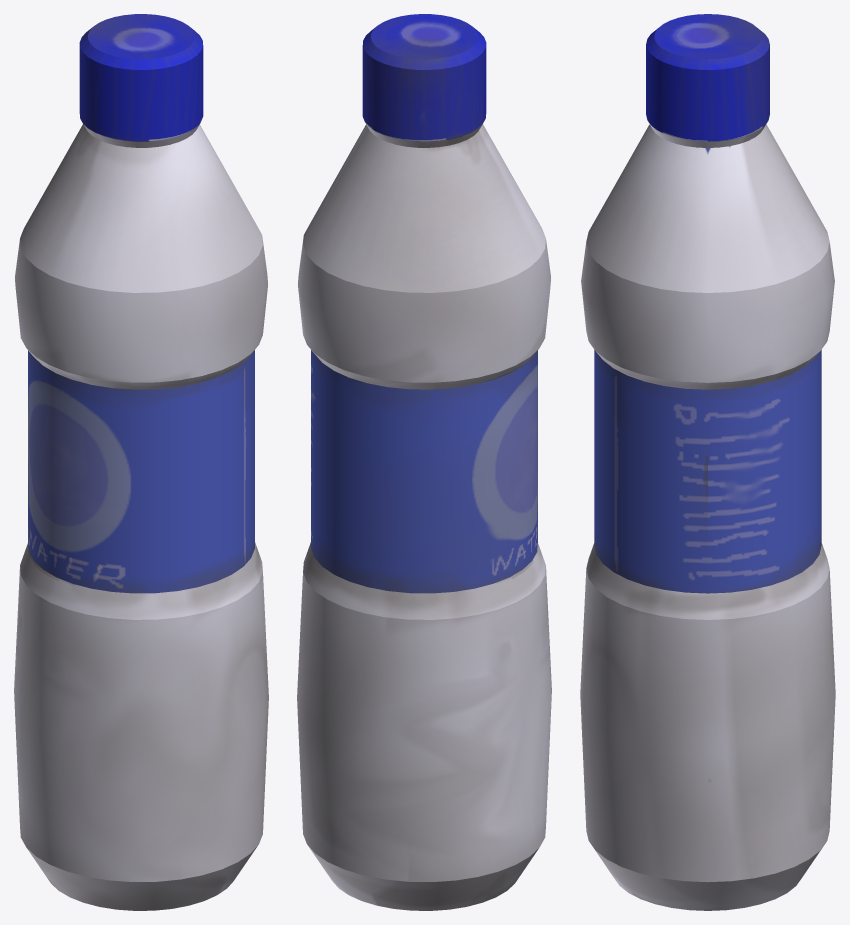
File: Bottle.glb
3 views of the same model, side by side, from view 1: azimuth 30°, elevation 25°; view 2: azimuth 150°, elevation 25°; view 3: azimuth 270°, elevation 25° (orthographic).
Parts seen in each view (by area): view 1: Bottle; view 2: Bottle; view 3: Bottle.
Part boxes in pixels (box(x1,y1,x2,y2)): Bottle: box(14, 14, 268, 910); Bottle: box(297, 14, 551, 910); Bottle: box(580, 14, 835, 910).
Bounding box in the file's own units: 0.6098 × 2.2 × 0.6098.
1 material, 1 textured.
